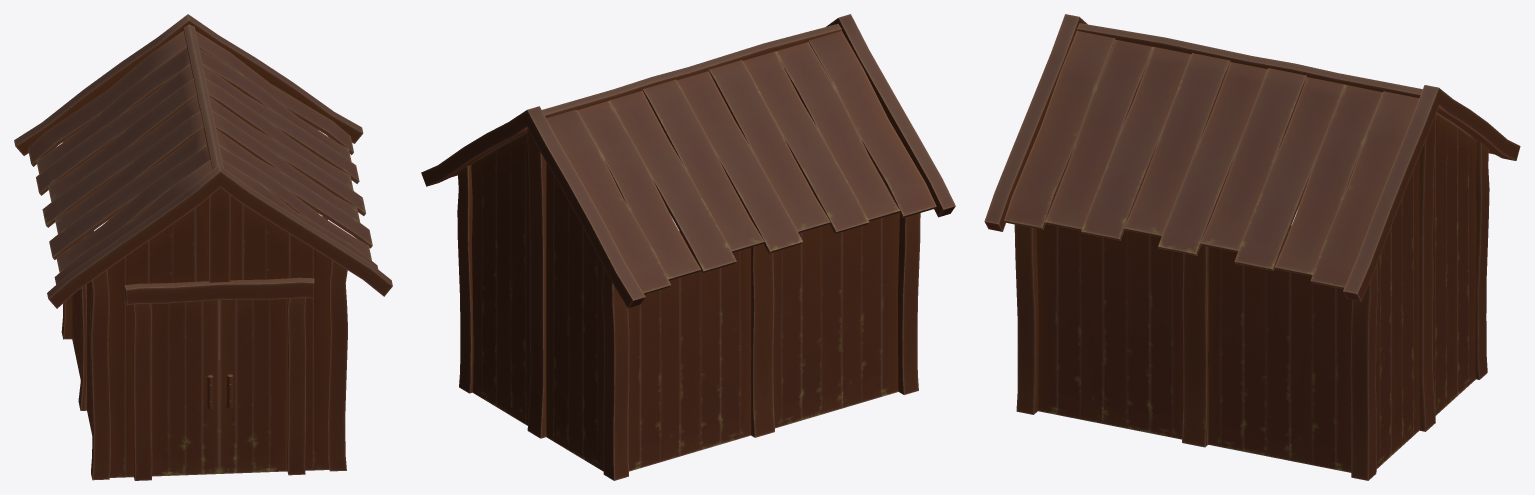
The model's file is Shed.gltf.
3 renders of one model, left to right at view 1: azimuth 30°, elevation 25°; view 2: azimuth 150°, elevation 25°; view 3: azimuth 270°, elevation 25°, orthographic. The views are drawn at different scales.
Parts seen in each view (by area): view 1: Shed_MESH; view 2: Shed_MESH; view 3: Shed_MESH.
Boxes of the visible parts, bbox=[...] form: Shed_MESH: bbox=[14, 14, 392, 480]; Shed_MESH: bbox=[421, 14, 955, 480]; Shed_MESH: bbox=[984, 14, 1520, 480].
Size of what is drawn, in the model's own units: 4.94 by 3.56 by 5.07.
1 material, 1 textured.
